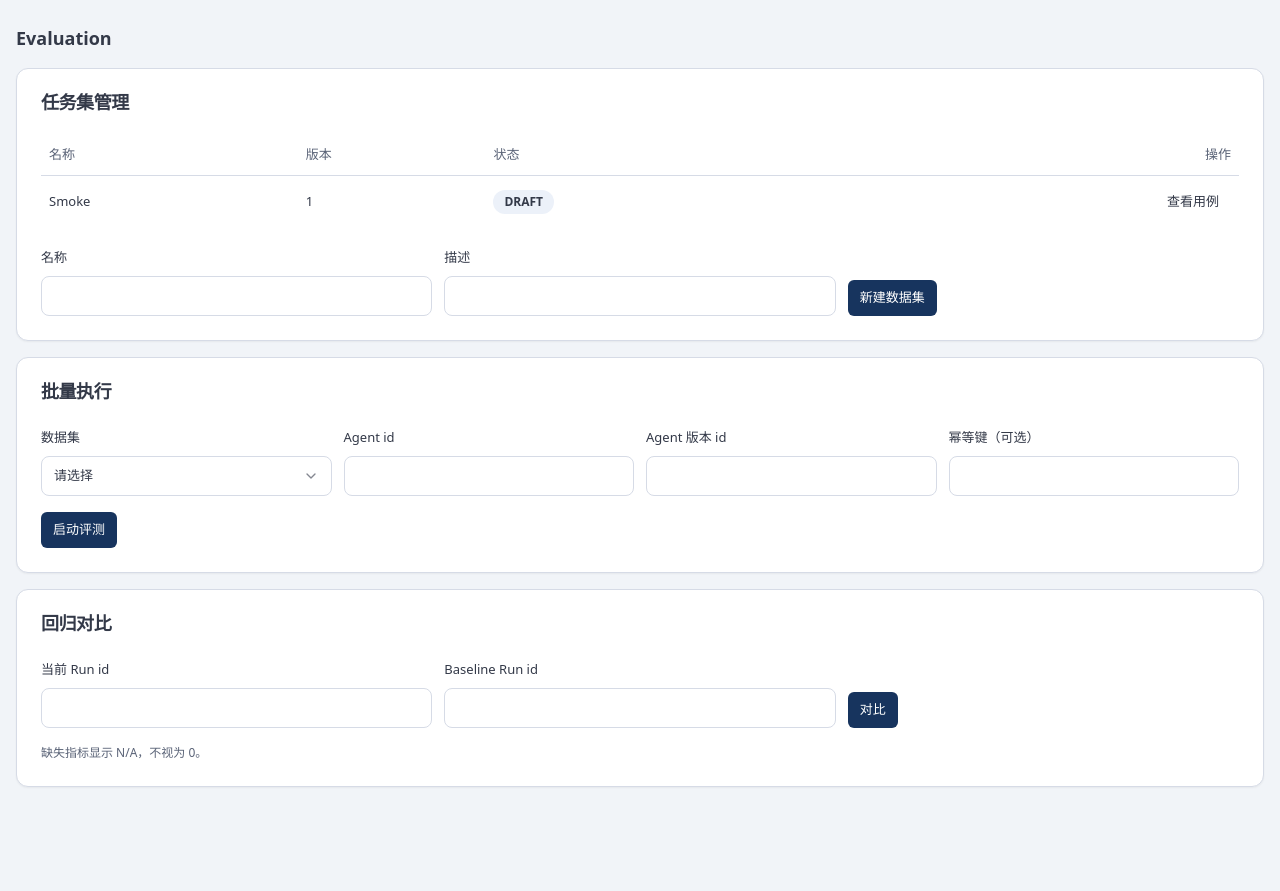
Test: Evaluation › 展示数据集列表并可新建
The width and height of the screenshot is (1280, 891).
expect the row with test id "dataset-row-ds1" shows "Smoke": met, box [49,192,90,210]
Step 1. Type "New Set" into the field with test id "dataset-name-input" → coordinates (237, 296), box [41,276,432,316]
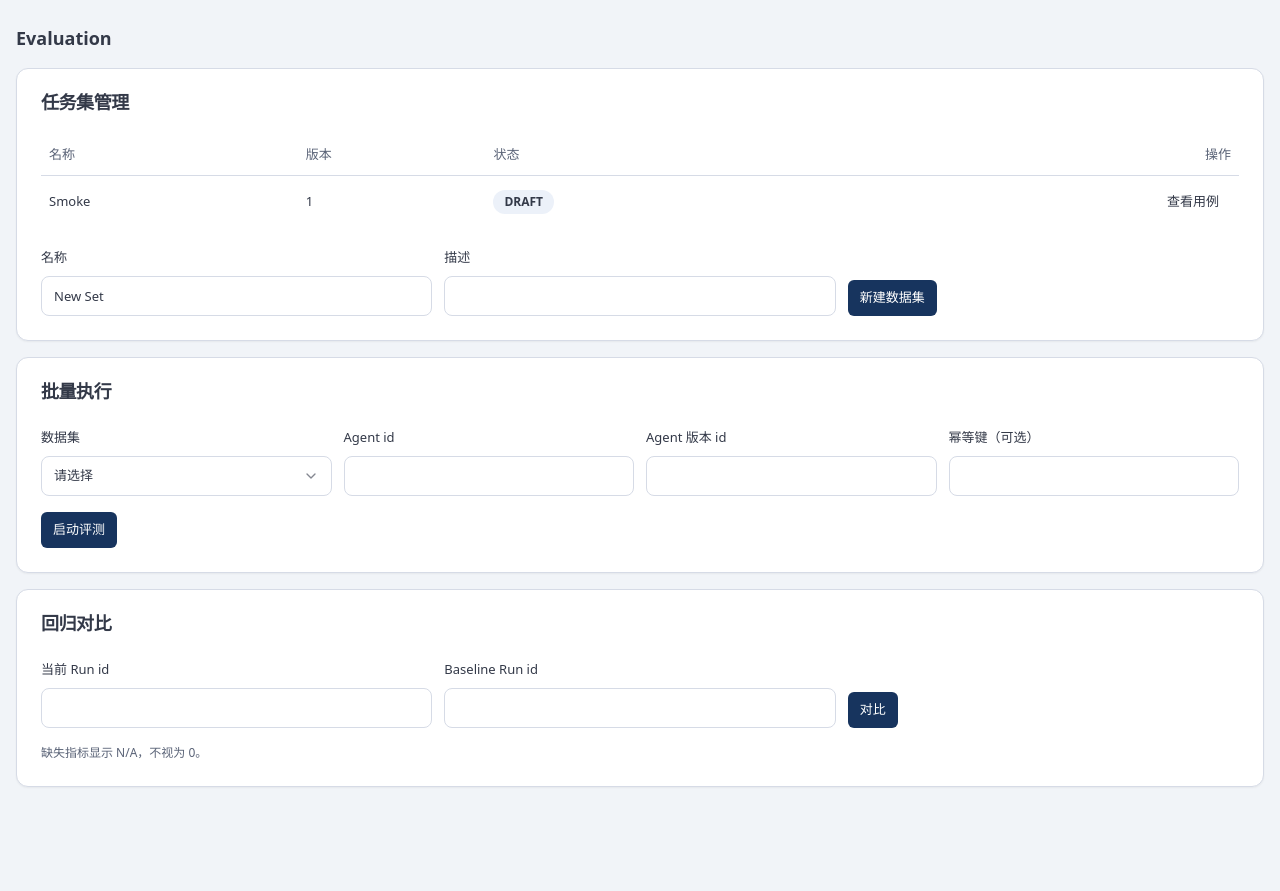
Step 2. Click the button with test id "dataset-create-button" → coordinates (892, 298), box [848,280,937,316]
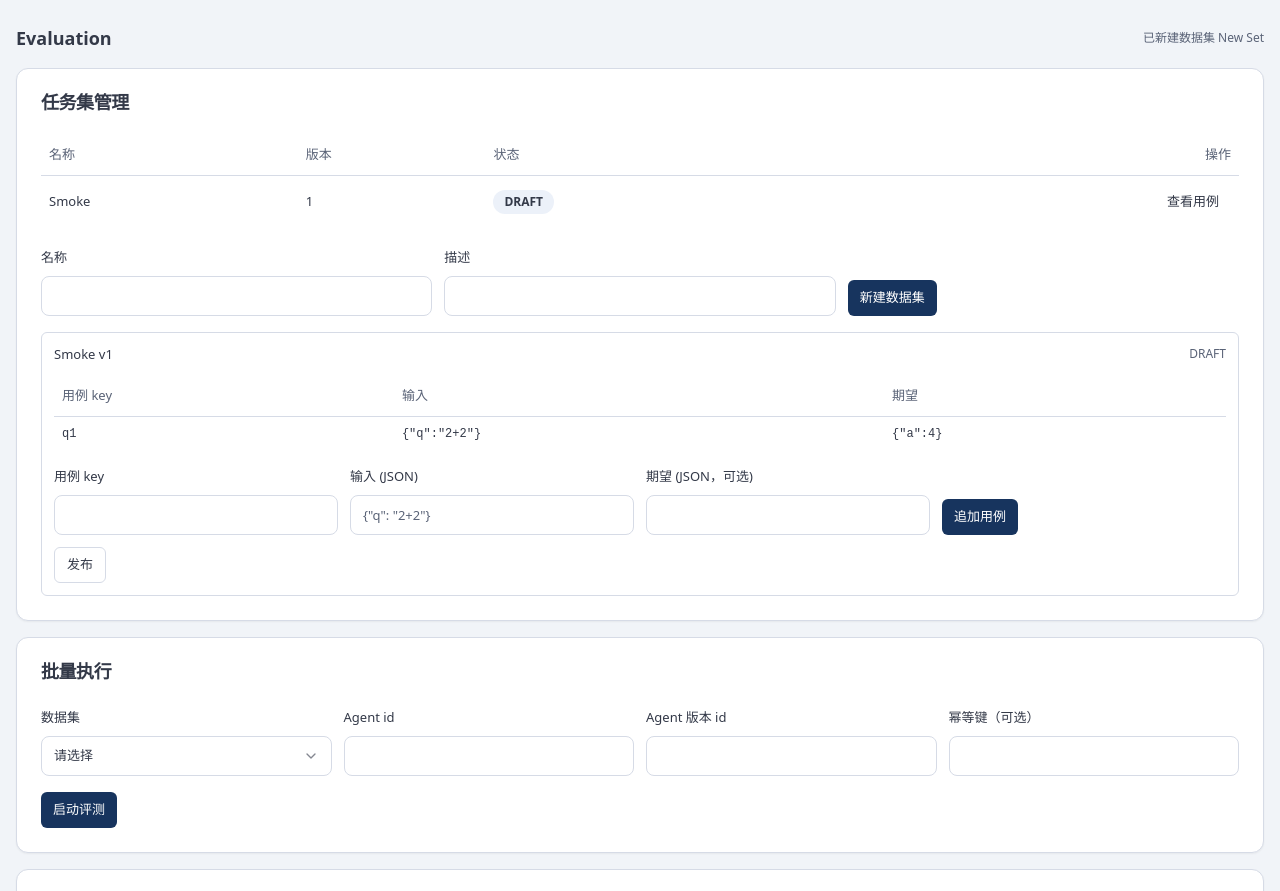
expect the text with test id "evaluation-feedback" reads "已新建数据集 New Set": met, box [1143,29,1264,46]
